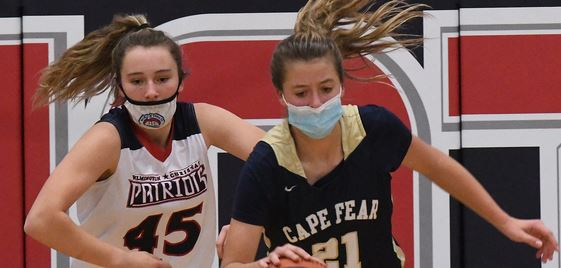with_incorrect_mask: (125, 59, 176, 124), (287, 75, 336, 119)
